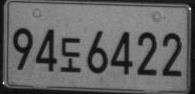2: (136, 31, 157, 75), (161, 32, 182, 76)
4: (34, 28, 57, 72), (110, 31, 133, 75)
6: (86, 30, 108, 74)
9: (12, 27, 33, 71)
도: (59, 36, 81, 72)
